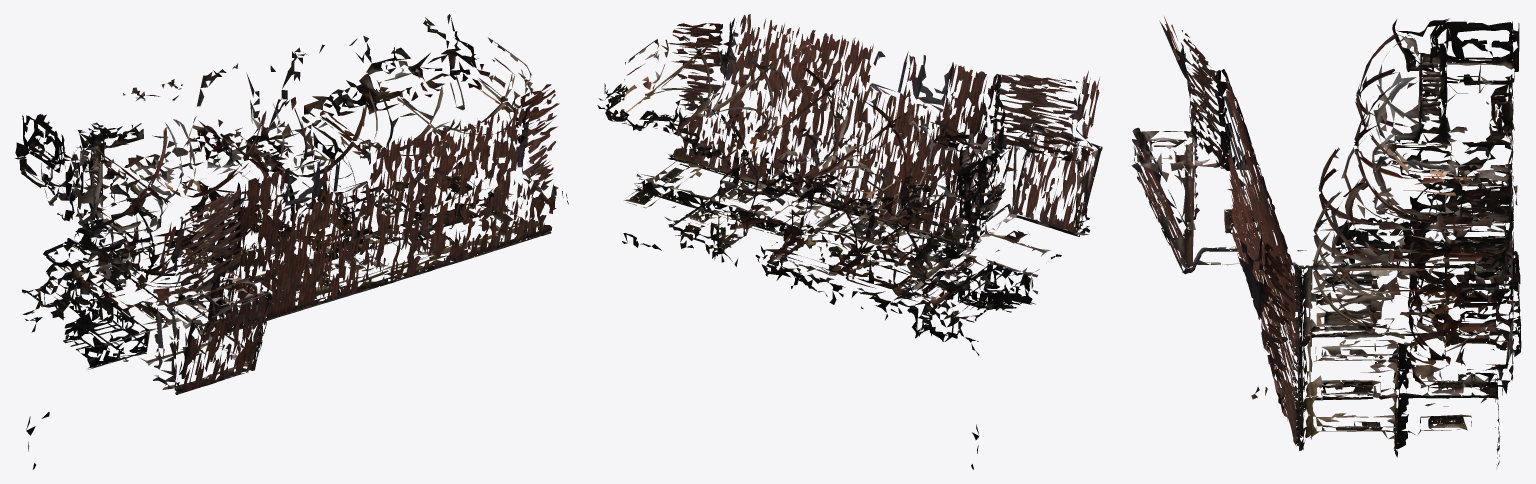
3 views of the same model, side by side, from view 1: azimuth 30°, elevation 25°; view 2: azimuth 150°, elevation 25°; view 3: azimuth 270°, elevation 25° (orthographic). The views are drawn at different scales.
Size of the model in its own units: 25.29 by 19.09 by 16.21.
1 material, 1 textured.
